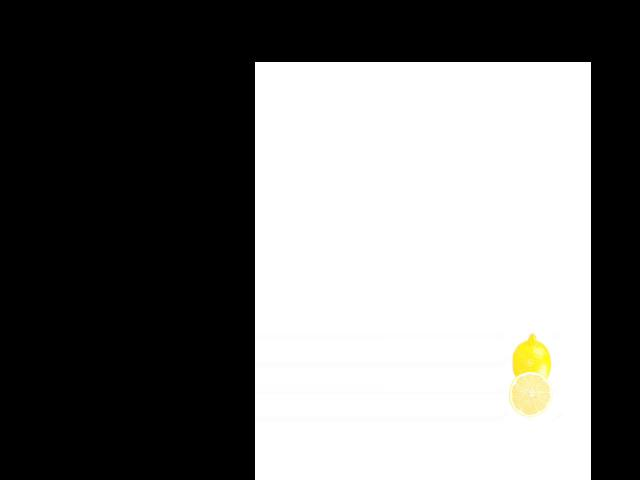lemon: (506, 333, 553, 385)
